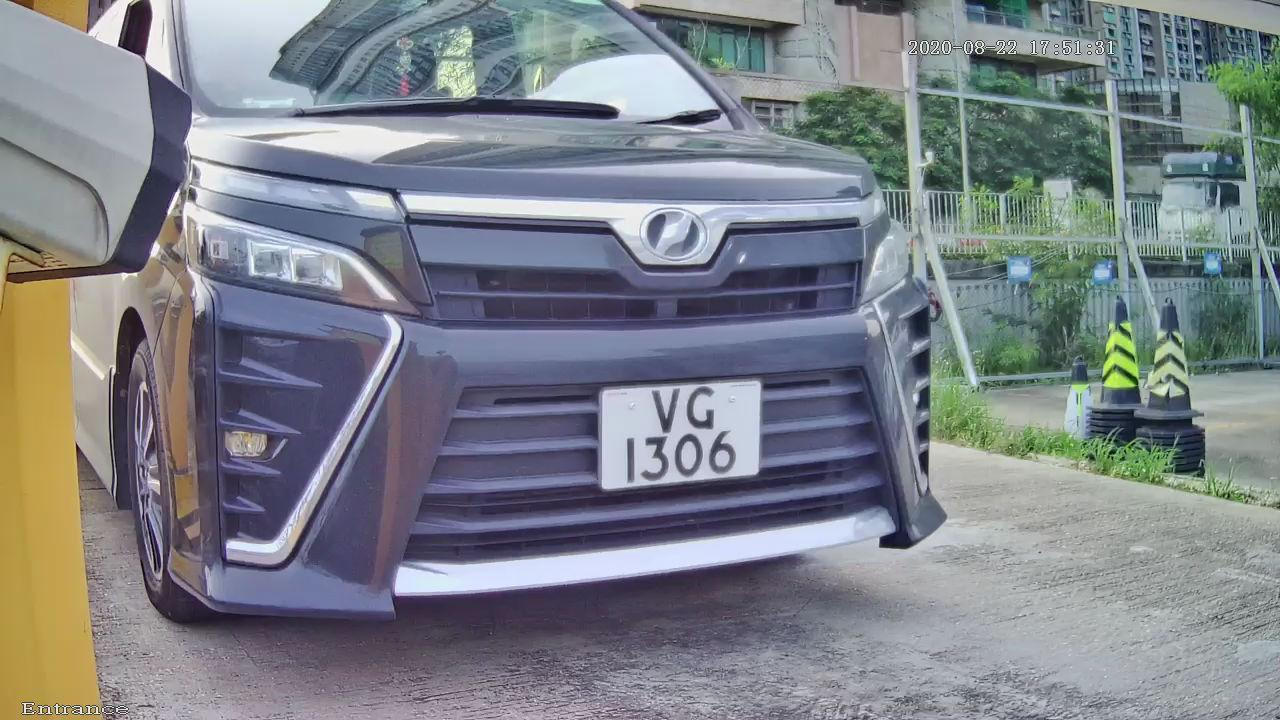Car: (18, 7, 1035, 682)
License Plate: (583, 360, 778, 508)
